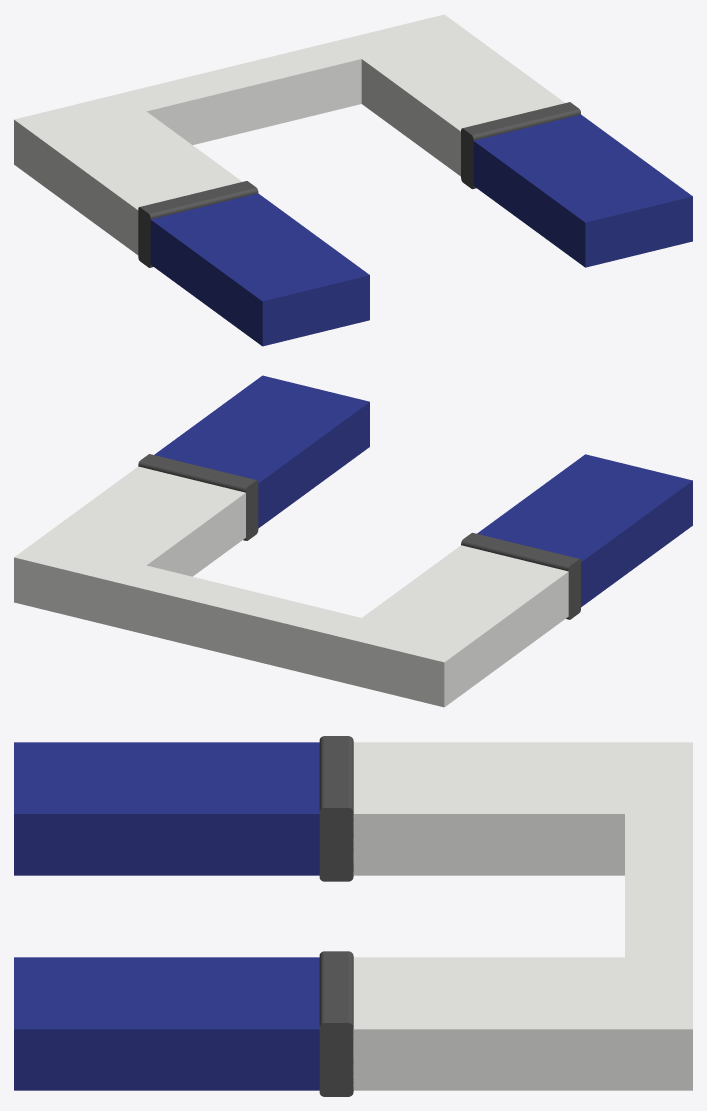
The model's file is Doorway(Horro_game) v7.fbx.
The picture shows the model from 3 angles, top to bottom: view 1: azimuth 30°, elevation 25°; view 2: azimuth 150°, elevation 25°; view 3: azimuth 270°, elevation 25°; orthographic projection. The views are drawn at different scales.
Visible parts, largest first — view 1: Body1, Body3, Body2, Body4, Body5; view 2: Body1, Body3, Body2, Body5, Body4; view 3: Body1, Body2, Body3, Body4, Body5.
Boxes of the visible parts, bbox=[...] form: Body1: bbox=[14, 14, 564, 254]; Body3: bbox=[150, 193, 369, 346]; Body2: bbox=[473, 114, 692, 267]; Body4: bbox=[138, 181, 258, 267]; Body5: bbox=[461, 102, 580, 189]; Body1: bbox=[14, 466, 568, 707]; Body3: bbox=[477, 454, 692, 607]; Body2: bbox=[154, 375, 369, 528]; Body5: bbox=[138, 454, 258, 540]; Body4: bbox=[461, 532, 580, 619]; Body1: bbox=[353, 742, 692, 1090]; Body2: bbox=[14, 957, 319, 1090]; Body3: bbox=[14, 742, 319, 875]; Body4: bbox=[319, 736, 353, 881]; Body5: bbox=[319, 951, 353, 1096].
Size of the model in its own units: 2000 by 240 by 2000.
